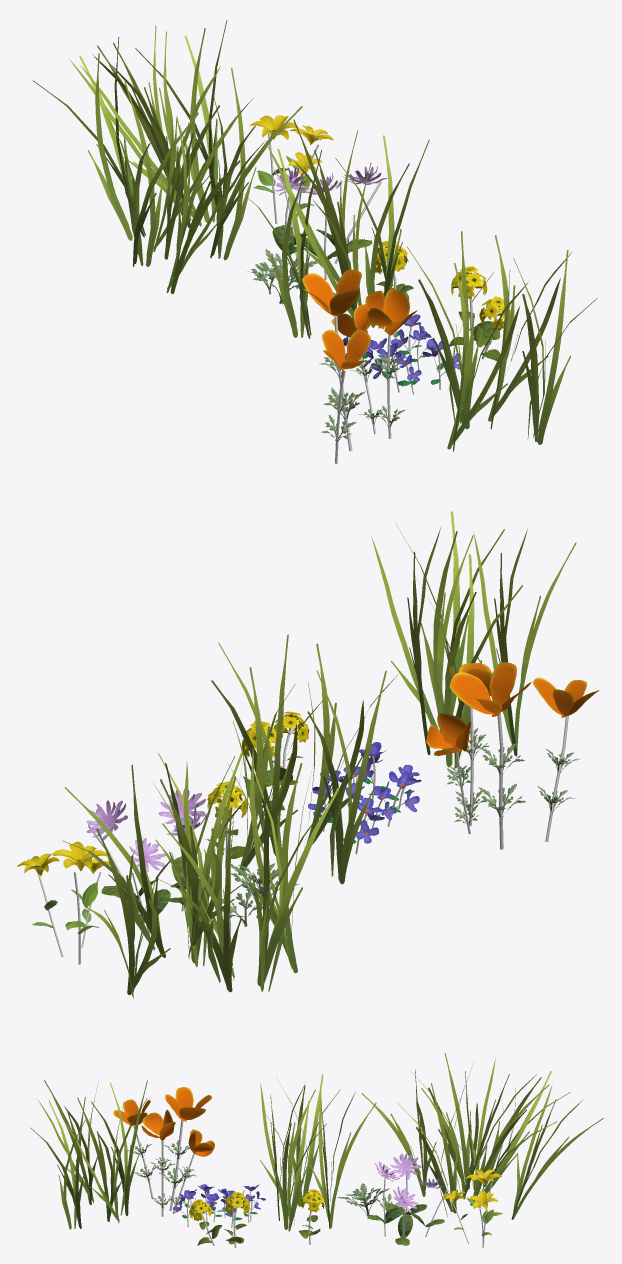
File: flowerpatch.FBX
3 views of the same model, one above another, from view 1: azimuth 30°, elevation 25°; view 2: azimuth 150°, elevation 25°; view 3: azimuth 270°, elevation 25° (orthographic). The views are drawn at different scales.
Parts seen in each view (by area): view 1: Gras017, Gras015, Gras016, Gras014, Poppy002, Poppy003, poppyLeaf006, PoppyLeaf005, Verbana003; view 2: Gras015, Gras014, Gras017, Gras016, Poppy003, PoppyLeaf007, PoppyLeaf008, poppyLeaf009, PurplePetal013, DarkLeaf005, Verbana021, poppyLeaf006; view 3: Gras015, Gras014, Gras016, Gras017, Poppy002, poppyLeaf006, Poppy003, PurplePetal014, Verbana003, Verbana021, PurplePetal013, Verbana010 (+4 smaller).
Boxes of the visible parts, x1=… form: Gras017: x1=105, y1=66, x2=302, y2=293; Gras015: x1=407, y1=231, x2=597, y2=451; Gras016: x1=33, y1=20, x2=227, y2=240; Gras014: x1=230, y1=119, x2=429, y2=338; Poppy002: x1=365, y1=288, x2=417, y2=335; Poppy003: x1=331, y1=304, x2=371, y2=336; poppyLeaf006: x1=253, y1=249, x2=316, y2=304; PoppyLeaf005: x1=302, y1=273, x2=334, y2=315; Verbana003: x1=451, y1=266, x2=487, y2=298; Gras015: x1=371, y1=511, x2=576, y2=768; Gras014: x1=211, y1=634, x2=397, y2=884; Gras017: x1=153, y1=748, x2=339, y2=991; Gras016: x1=62, y1=764, x2=244, y2=998; Poppy003: x1=426, y1=713, x2=471, y2=755; PoppyLeaf007: x1=449, y1=672, x2=494, y2=714; PoppyLeaf008: x1=489, y1=662, x2=516, y2=716; poppyLeaf009: x1=478, y1=743, x2=525, y2=824; PurplePetal013: x1=86, y1=800, x2=127, y2=839; DarkLeaf005: x1=53, y1=841, x2=107, y2=870; Verbana021: x1=207, y1=781, x2=247, y2=820; poppyLeaf006: x1=230, y1=863, x2=299, y2=918; Gras015: x1=30, y1=1080, x2=147, y2=1229; Gras014: x1=260, y1=1074, x2=376, y2=1231; Gras016: x1=465, y1=1058, x2=603, y2=1219; Gras017: x1=361, y1=1053, x2=485, y2=1217; Poppy002: x1=141, y1=1109, x2=175, y2=1140; poppyLeaf006: x1=337, y1=1183, x2=389, y2=1218; Poppy003: x1=188, y1=1129, x2=214, y2=1156; PurplePetal014: x1=390, y1=1153, x2=421, y2=1179; Verbana003: x1=225, y1=1192, x2=249, y2=1214; Verbana021: x1=300, y1=1189, x2=324, y2=1212; PurplePetal013: x1=393, y1=1186, x2=418, y2=1212; Verbana010: x1=189, y1=1199, x2=212, y2=1220.
Size of the model in its own units: 47.62 by 40.39 by 134.
22 materials, 22 textured.
